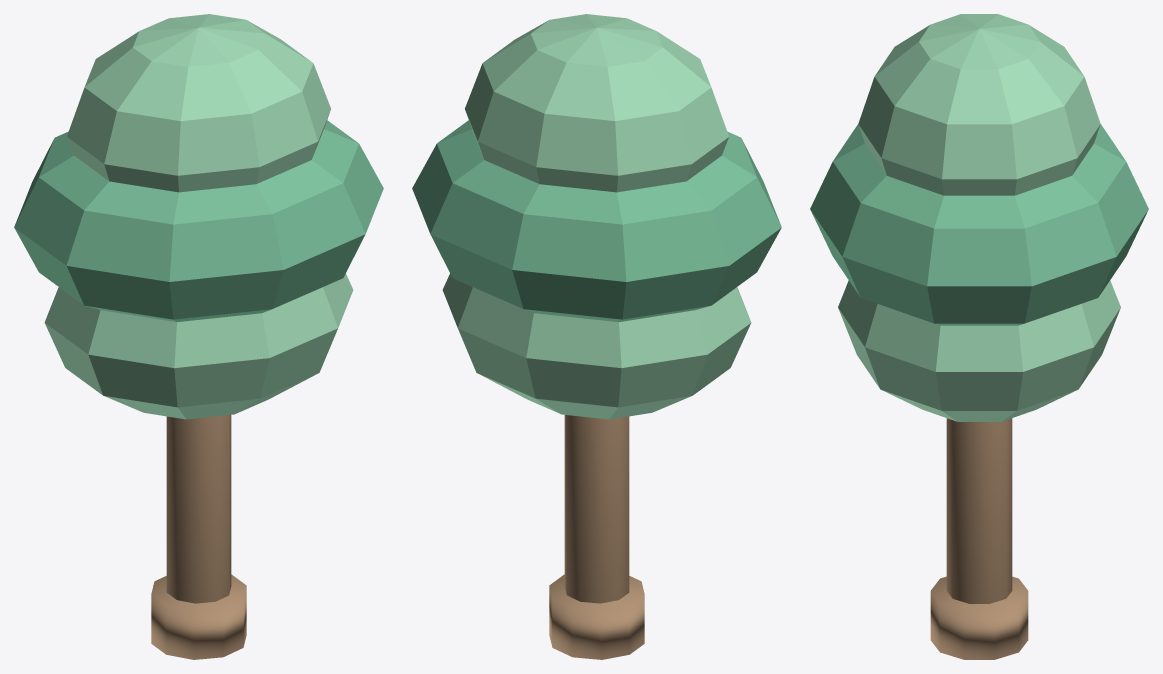
The model's file is HL_Tree_Canopy.fbx.
3 renders of one model, left to right at view 1: azimuth 30°, elevation 25°; view 2: azimuth 150°, elevation 25°; view 3: azimuth 270°, elevation 25°, orthographic.
Visible parts, largest first — view 1: Foliage | layered crown 1, Foliage | layered crown 2, Foliage | layered crown 0, Trunk | driftwood, Trunk | root collar; view 2: Foliage | layered crown 1, Foliage | layered crown 2, Foliage | layered crown 0, Trunk | driftwood, Trunk | root collar; view 3: Foliage | layered crown 1, Foliage | layered crown 2, Foliage | layered crown 0, Trunk | driftwood, Trunk | root collar.
Part boxes in pixels (left/top/right/bottom): Foliage | layered crown 1: left=14, top=120, right=383, bottom=322; Foliage | layered crown 2: left=67, top=14, right=330, bottom=192; Foliage | layered crown 0: left=44, top=273, right=353, bottom=419; Trunk | driftwood: left=166, top=415, right=231, bottom=603; Trunk | root collar: left=151, top=574, right=246, bottom=659; Foliage | layered crown 1: left=412, top=120, right=781, bottom=322; Foliage | layered crown 2: left=465, top=14, right=728, bottom=192; Foliage | layered crown 0: left=442, top=273, right=751, bottom=419; Trunk | driftwood: left=564, top=415, right=629, bottom=603; Trunk | root collar: left=549, top=574, right=644, bottom=659; Foliage | layered crown 1: left=810, top=124, right=1148, bottom=325; Foliage | layered crown 2: left=858, top=14, right=1100, bottom=195; Foliage | layered crown 0: left=838, top=280, right=1120, bottom=421; Trunk | driftwood: left=946, top=418, right=1012, bottom=603; Trunk | root collar: left=930, top=576, right=1028, bottom=659.
Bounding box in the file's own units: 301 × 555 × 278.
